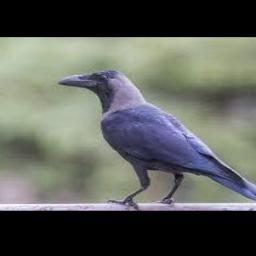Crow: (59, 69, 256, 209)
